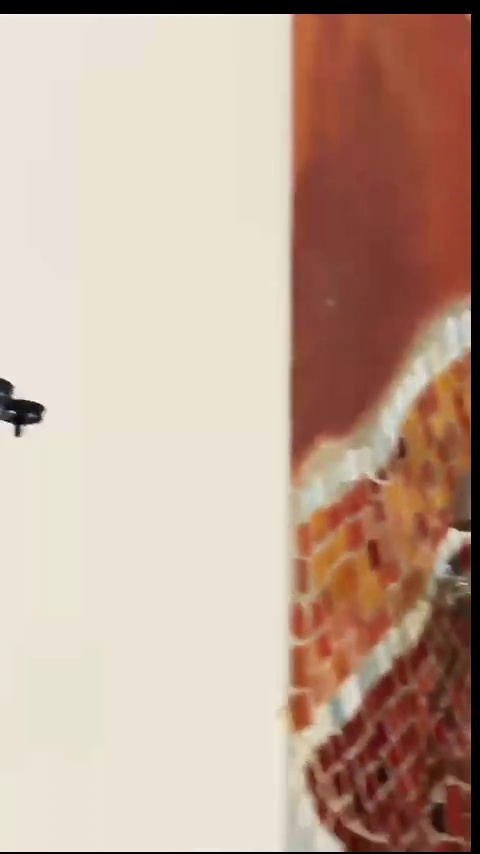drone: (0, 377, 46, 436)
